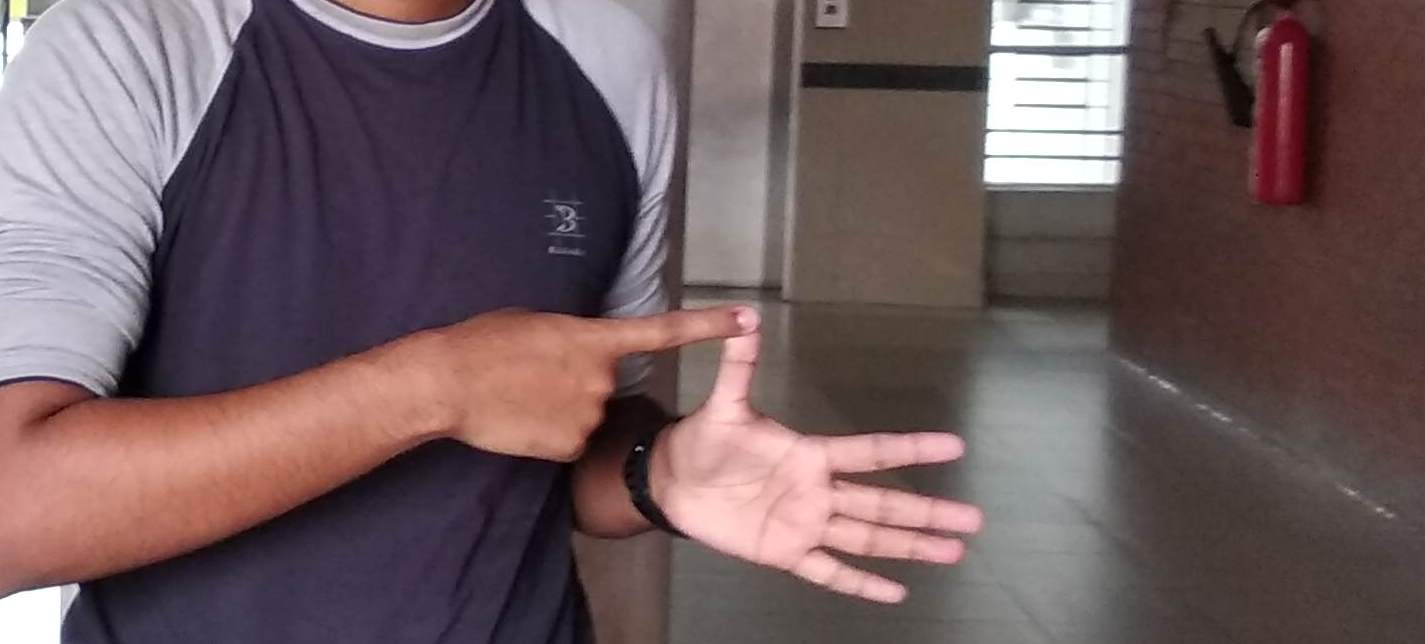a: (484, 305, 956, 613)
